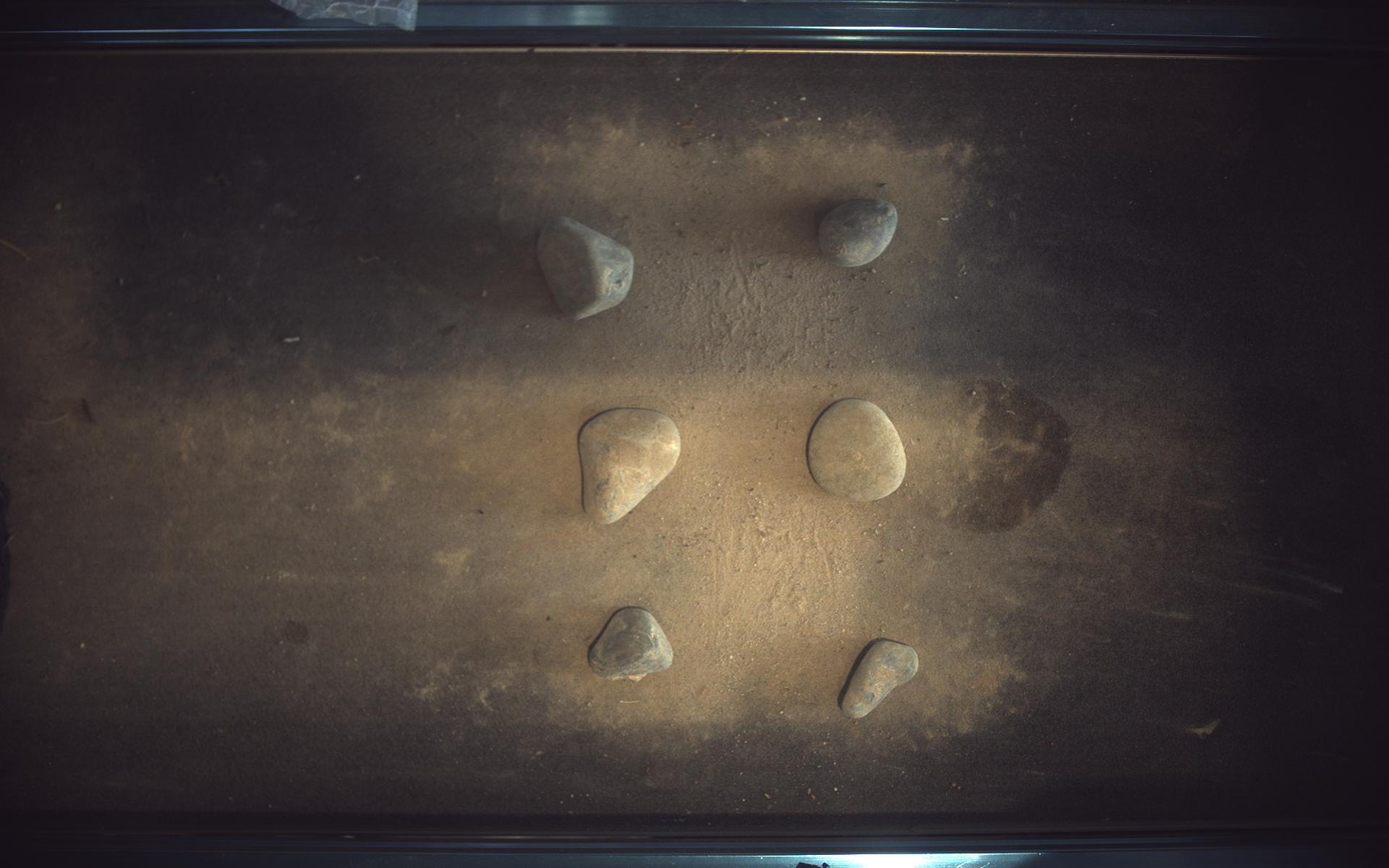stone: (579, 408, 681, 525), (809, 399, 908, 501), (538, 216, 634, 320), (588, 608, 674, 682), (843, 640, 921, 720), (820, 198, 899, 267)
